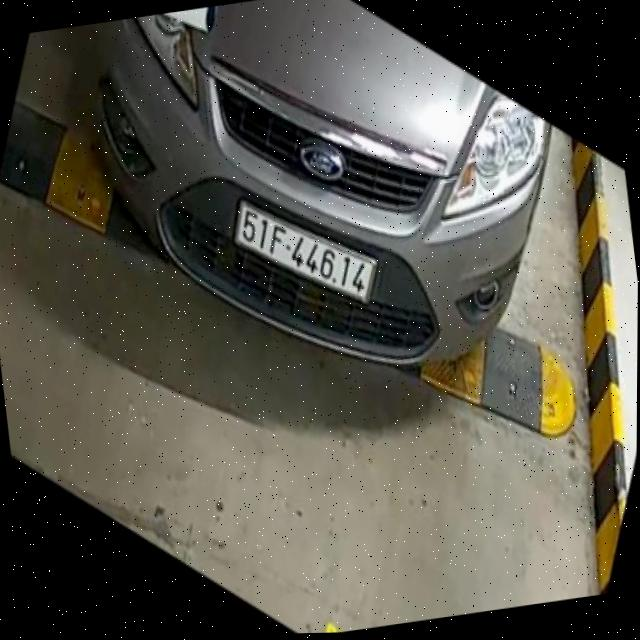car: (59, 0, 582, 424)
plate: (225, 177, 386, 326)
